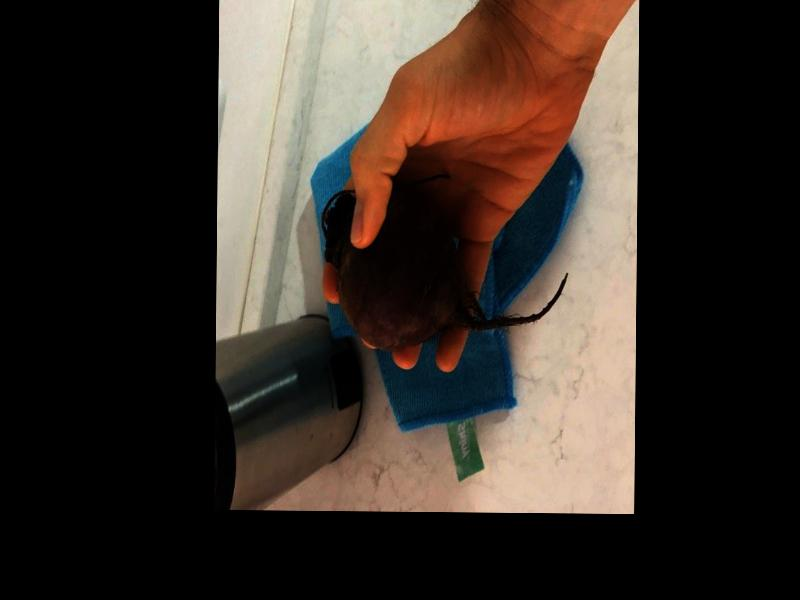Beet: (321, 174, 569, 351)
